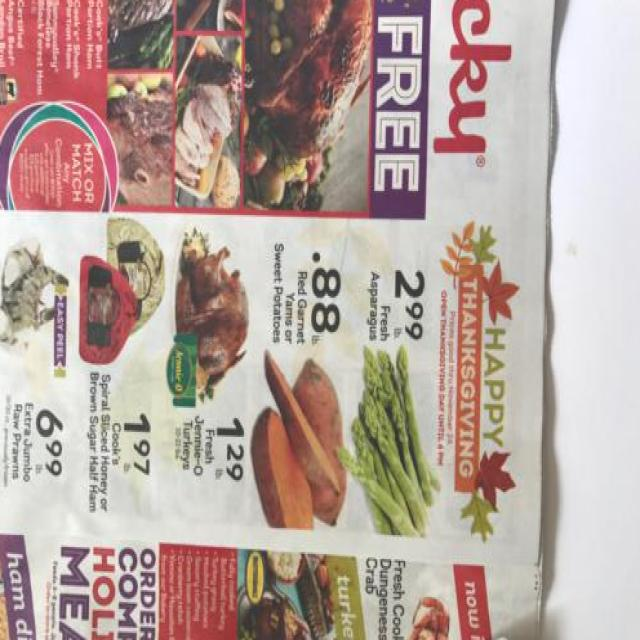kertas: (0, 0, 555, 640)
